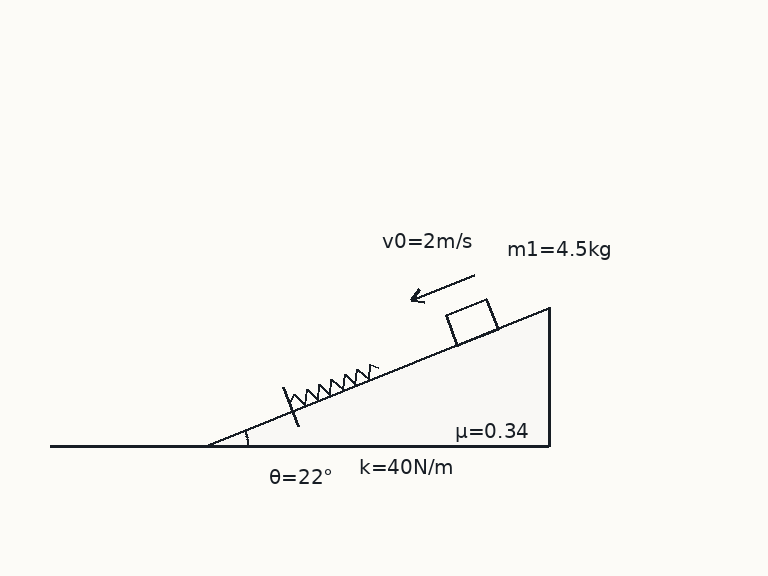block: (443, 297, 500, 347)
ramp: (206, 306, 551, 448)
spring: (288, 361, 381, 407)
